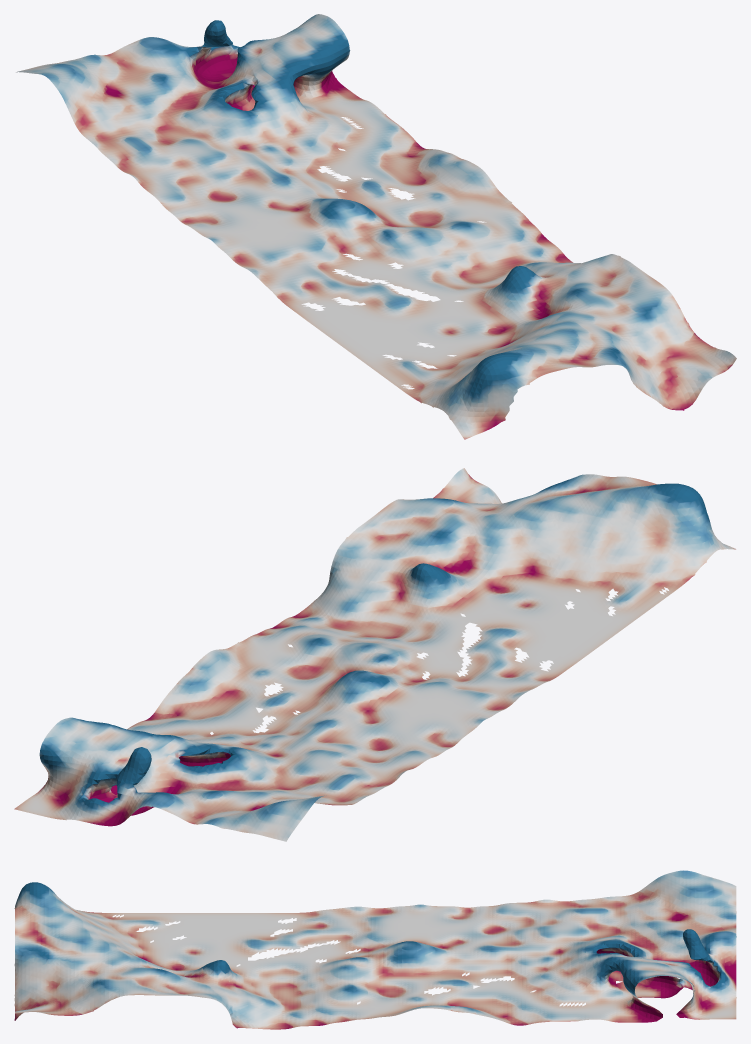
File: crop1122_deviation.glb
3 views of the same model, one above another, from view 1: azimuth 30°, elevation 25°; view 2: azimuth 150°, elevation 25°; view 3: azimuth 270°, elevation 25° (orthographic). The views are drawn at different scales.
Parts seen in each view (by area): view 1: world; view 2: world; view 3: world.
Boxes of the visible parts, box(x1,y1,x2,y2) form: world: box(16, 14, 736, 439); world: box(14, 468, 735, 841); world: box(14, 870, 736, 1029).
Bounding box in the file's own units: 1079 × 345 × 3079.
